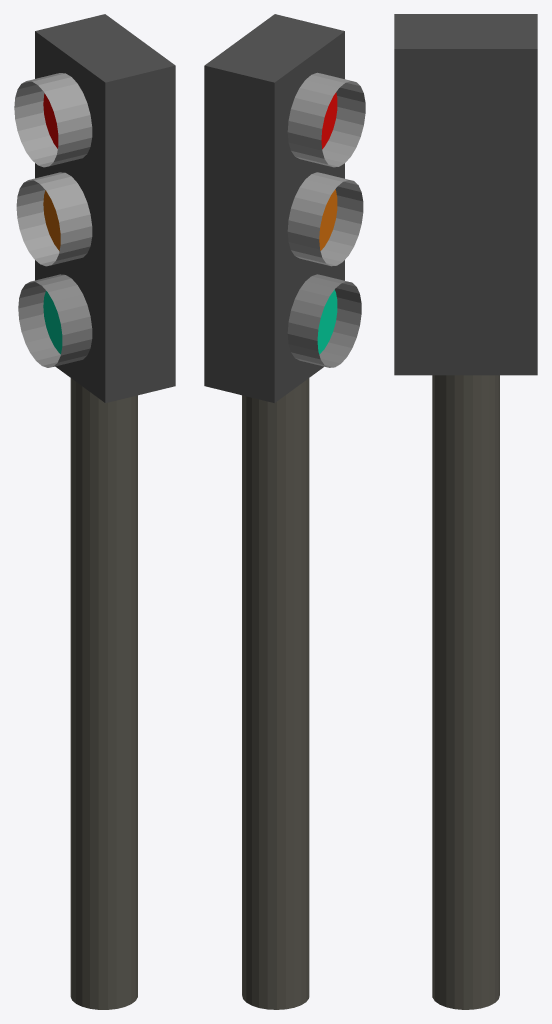
Rendered from Traffic_Light.glb.
3 renders of one model, left to right at view 1: azimuth 30°, elevation 25°; view 2: azimuth 150°, elevation 25°; view 3: azimuth 270°, elevation 25°, orthographic.
Parts seen in each view (by area): view 1: Cube; view 2: Cube; view 3: Cube.
Part boxes in pixels (x1=…): Cube: x1=14, y1=14, x2=175, y2=1009; Cube: x1=204, y1=14, x2=365, y2=1009; Cube: x1=394, y1=14, x2=537, y2=1009.
Bounding box in the file's own units: 0.2958 × 2.58 × 0.3471.
